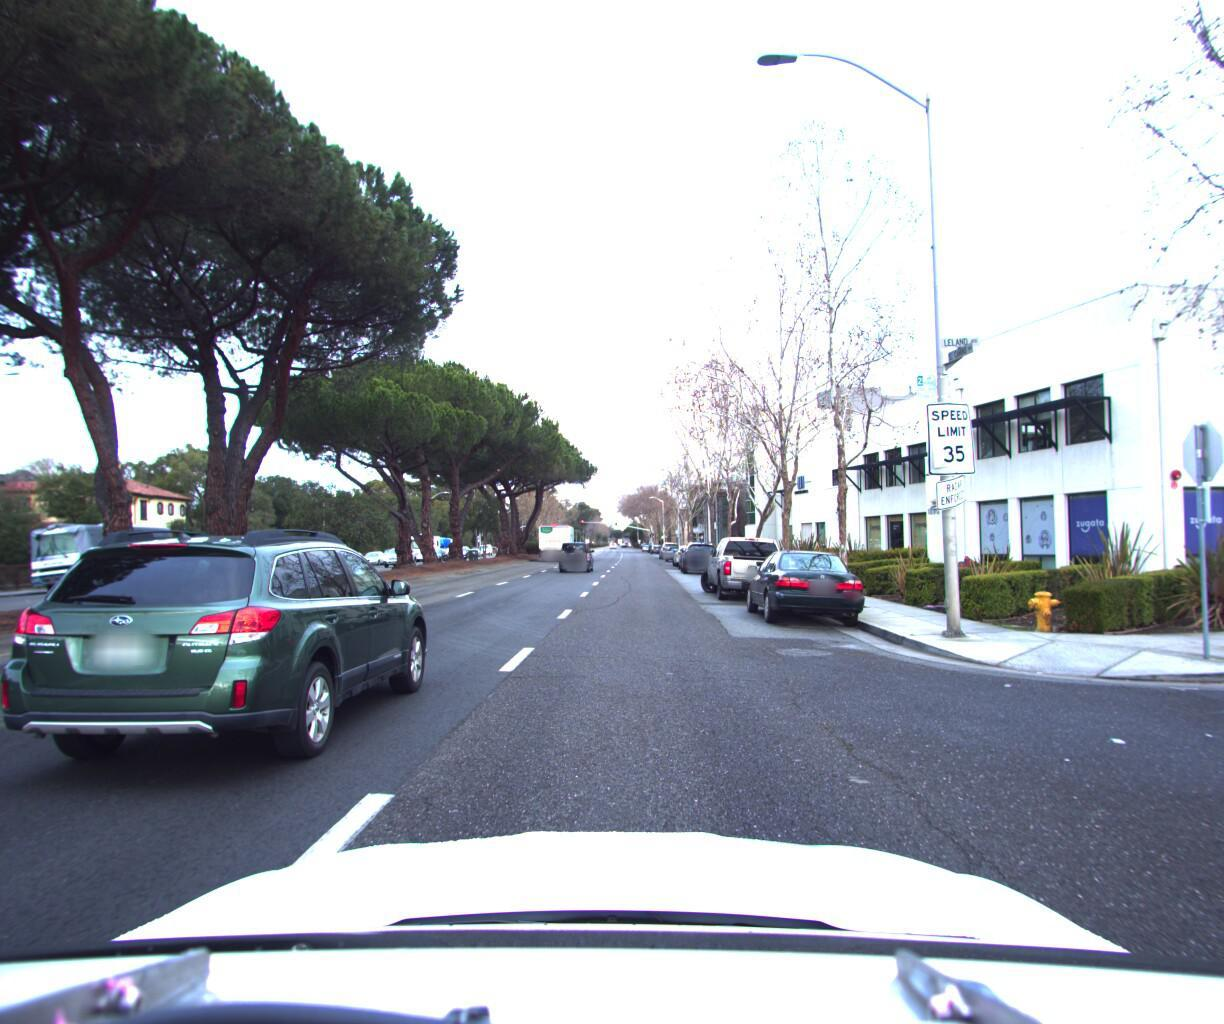car: (0, 515, 440, 808), (739, 537, 879, 624), (703, 525, 802, 599), (259, 539, 317, 571), (680, 530, 723, 568), (551, 533, 595, 568), (380, 540, 417, 562), (360, 544, 391, 560)
other_vehicle: (22, 513, 189, 588), (0, 510, 5, 611)
truck: (536, 517, 578, 555)
